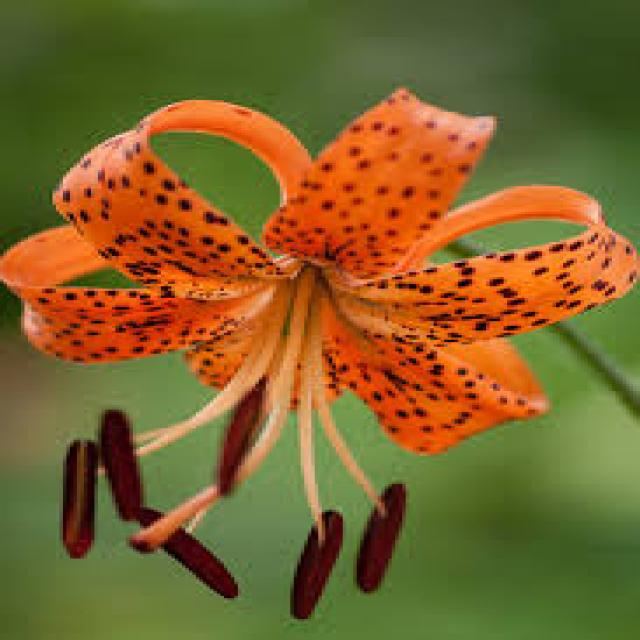lily: (3, 32, 640, 638)
